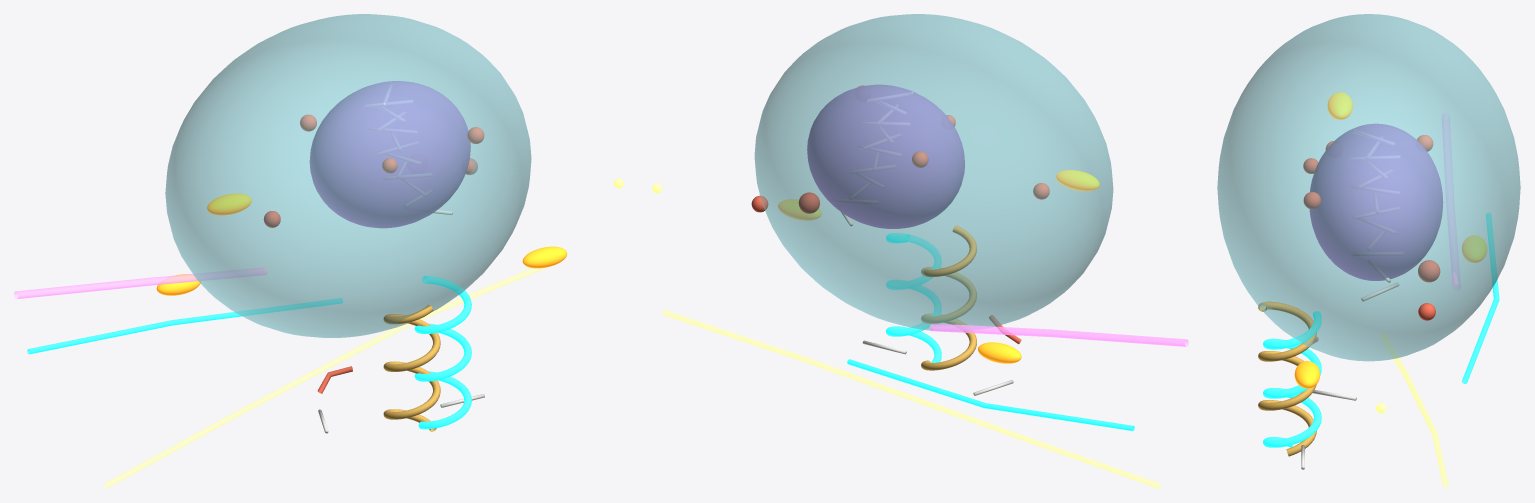
Rendered from radiobiologie_premium.glb.
The picture shows the model from 3 angles, left to right: view 1: azimuth 30°, elevation 25°; view 2: azimuth 150°, elevation 25°; view 3: azimuth 270°, elevation 25°; orthographic projection. The views are drawn at different scales.
Visible parts, largest first — view 1: CELL_cellule_eucaryote_translucide, CELL_noyau, RADIATION_X_gamma_TLE_faible, MOLECULE_ADN_double_helice_brin_2, RADIATION_alpha_TLE_eleve, MOLECULE_ADN_double_helice_brin_1, RADIATION_beta, CELL_mitochondrie_3, CELL_mitochondrie_1, CELL_mitochondrie_2; view 2: CELL_cellule_eucaryote_translucide, CELL_noyau, RADIATION_X_gamma_TLE_faible, MOLECULE_ADN_double_helice_brin_1, RADIATION_alpha_TLE_eleve, MOLECULE_ADN_double_helice_brin_2, RADIATION_beta, CELL_mitochondrie_2, CELL_mitochondrie_1; view 3: CELL_cellule_eucaryote_translucide, CELL_noyau, MOLECULE_ADN_double_helice_brin_1, MOLECULE_ADN_double_helice_brin_2, RADIATION_alpha_TLE_eleve, RADIATION_beta, RADIATION_X_gamma_TLE_faible, CELL_mitochondrie_3, CELL_mitochondrie_1, CELL_mitochondrie_2, LESION_ADN_double_brin.
Part boxes in pixels (x1,y1,x2,y2): CELL_cellule_eucaryote_translucide: (165,14,531,337); CELL_noyau: (309,81,470,228); RADIATION_X_gamma_TLE_faible: (103,267,547,488); MOLECULE_ADN_double_helice_brin_2: (414,276,471,429); RADIATION_alpha_TLE_eleve: (14,267,267,299); MOLECULE_ADN_double_helice_brin_1: (383,305,440,431); RADIATION_beta: (27,298,342,354); CELL_mitochondrie_3: (522,246,567,268); CELL_mitochondrie_1: (207,193,251,215); CELL_mitochondrie_2: (156,274,200,295); CELL_cellule_eucaryote_translucide: (754,14,1113,330); CELL_noyau: (807,84,964,228); RADIATION_X_gamma_TLE_faible: (661,309,1160,488); MOLECULE_ADN_double_helice_brin_1: (921,225,976,370); RADIATION_alpha_TLE_eleve: (929,323,1188,346); MOLECULE_ADN_double_helice_brin_2: (886,233,941,362); RADIATION_beta: (847,359,1134,430); CELL_mitochondrie_2: (978,342,1021,363); CELL_mitochondrie_1: (1056,170,1099,191); CELL_cellule_eucaryote_translucide: (1217,14,1520,361); CELL_noyau: (1309,123,1443,280); MOLECULE_ADN_double_helice_brin_1: (1258,301,1316,456); MOLECULE_ADN_double_helice_brin_2: (1263,311,1321,447); RADIATION_alpha_TLE_eleve: (1442,113,1460,290); RADIATION_beta: (1462,213,1499,383); RADIATION_X_gamma_TLE_faible: (1380,331,1448,488); CELL_mitochondrie_3: (1294,361,1320,388); CELL_mitochondrie_1: (1327,92,1352,119); CELL_mitochondrie_2: (1462,235,1486,262); LESION_ADN_double_brin: (1418,260,1440,282).
Bounding box in the file's own units: 4.3 × 2.9 × 1.9.
